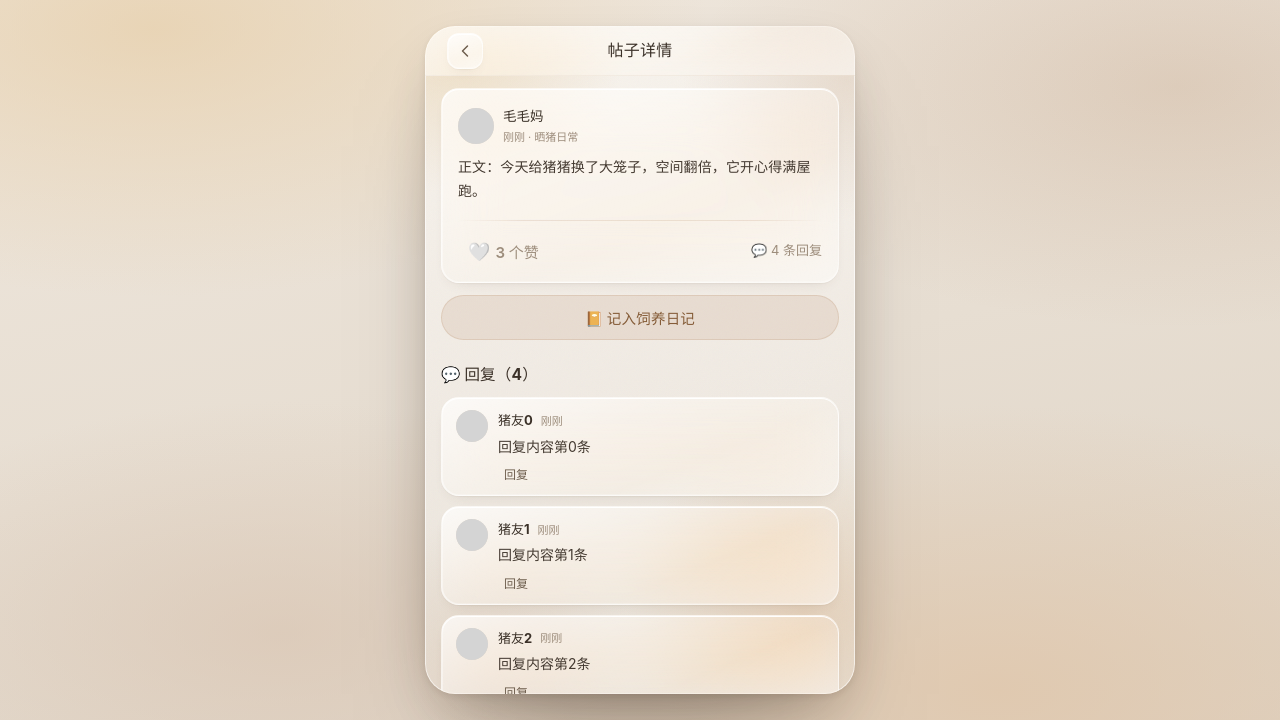
Test: 阶段2 批次C · 摘录进饲养日记 › 论坛帖子摘录：预填话题 / 作者 / 正文 / 最多 3 条回复（验收 C4）
Click the button "📔 记入饲养日记" at (640, 317), box 441,295 -> 839,340
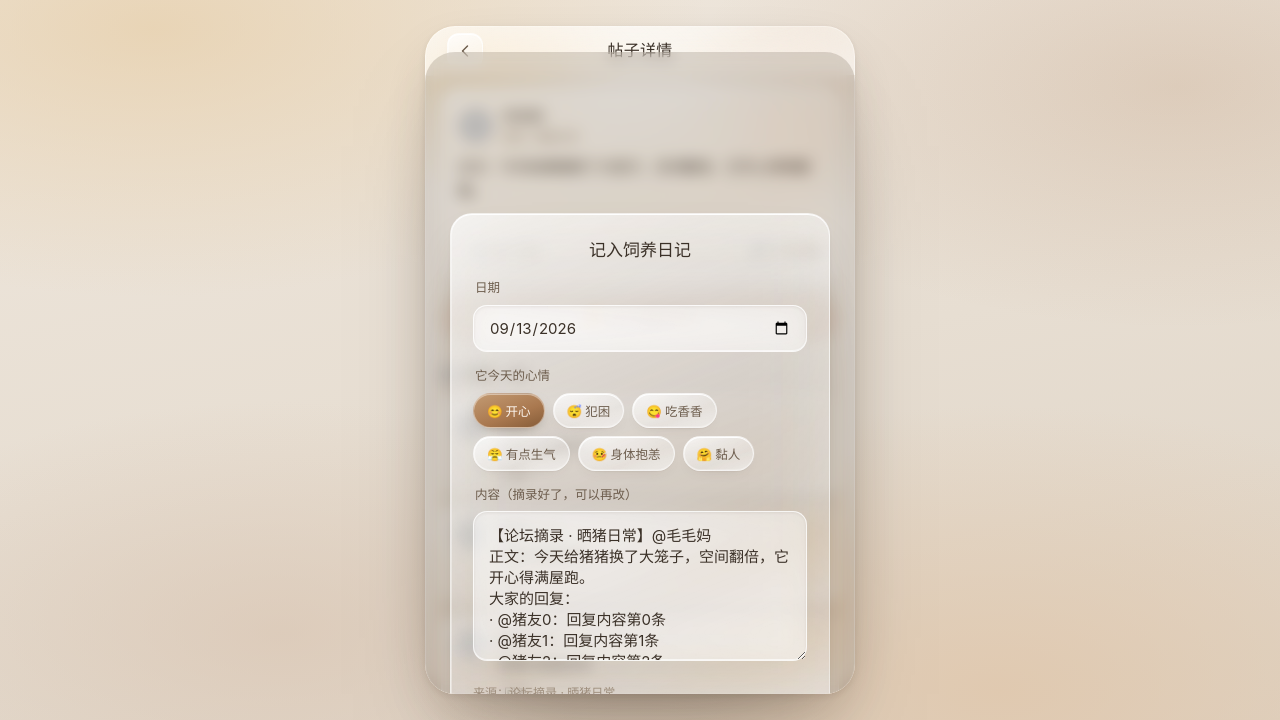
Now the text box is shown, box 473,511 -> 807,661
